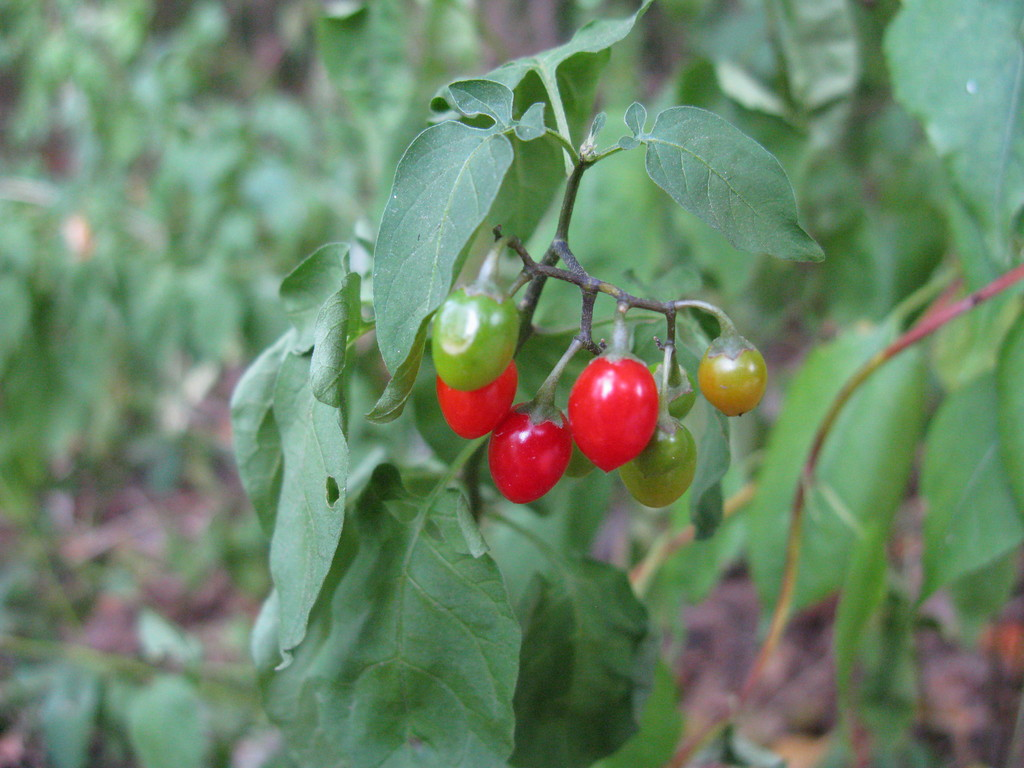Tomato: (559, 344, 656, 468)
